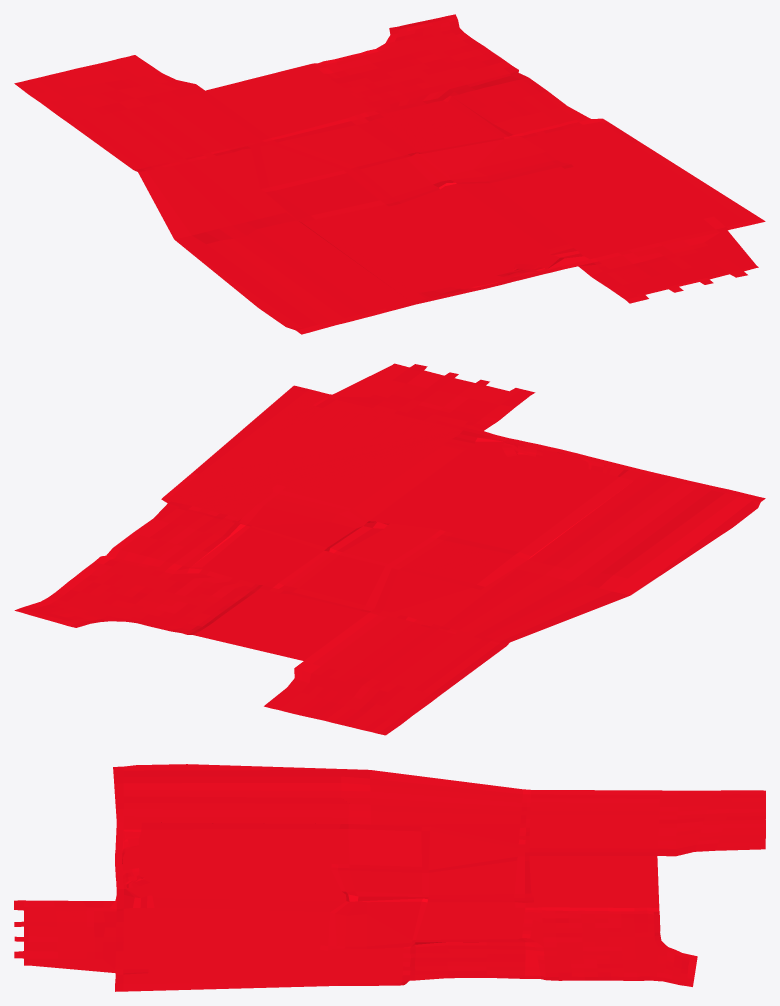
The model's file is 2020_fime_gmaps_mapa.fbx.
3 views of the same model, one above another, from view 1: azimuth 30°, elevation 25°; view 2: azimuth 150°, elevation 25°; view 3: azimuth 270°, elevation 25° (orthographic). The views are drawn at different scales.
Parts seen in each view (by area): view 1: Plano; view 2: Plano; view 3: Plano.
Part boxes in pixels (box(x1,y1,x2,y2)): Plano: box(14, 14, 765, 334); Plano: box(14, 363, 765, 735); Plano: box(14, 764, 765, 991).
Bounding box in the file's own units: 24202 × 309 × 34009.
